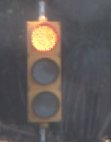Red: (21, 18, 68, 131)
